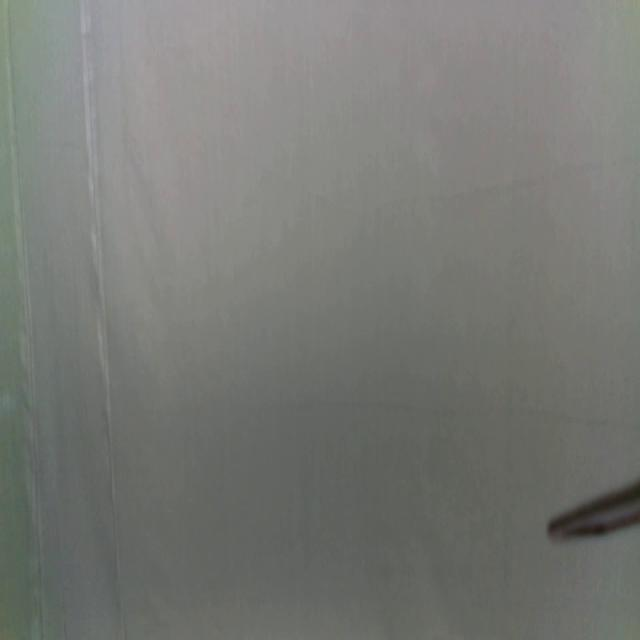crease: (84, 0, 126, 640), (5, 0, 44, 639)
